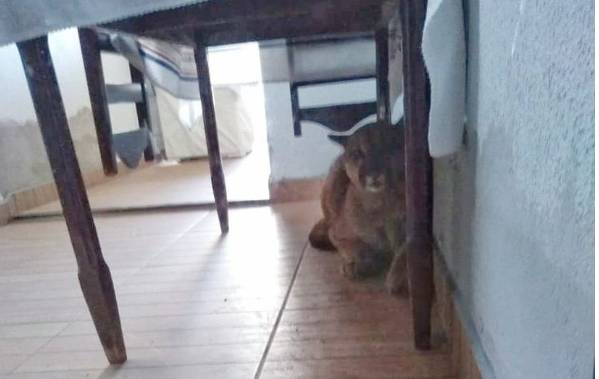OncaParda: (301, 112, 425, 293)
